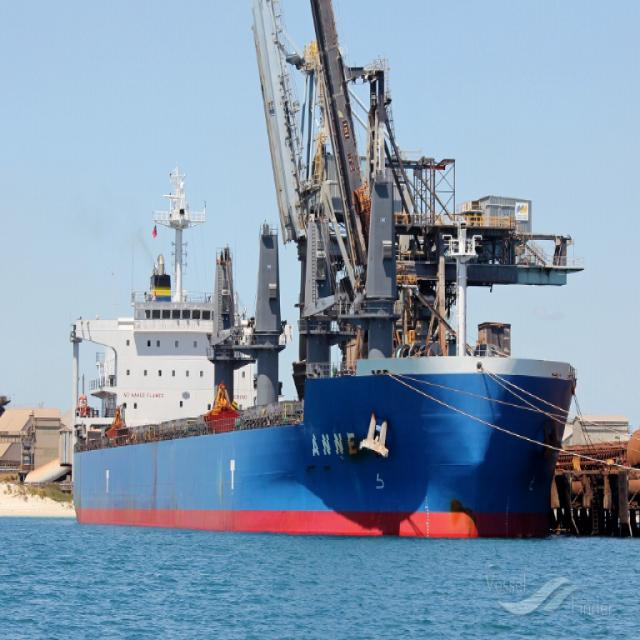OCR: (298, 424, 364, 464)
